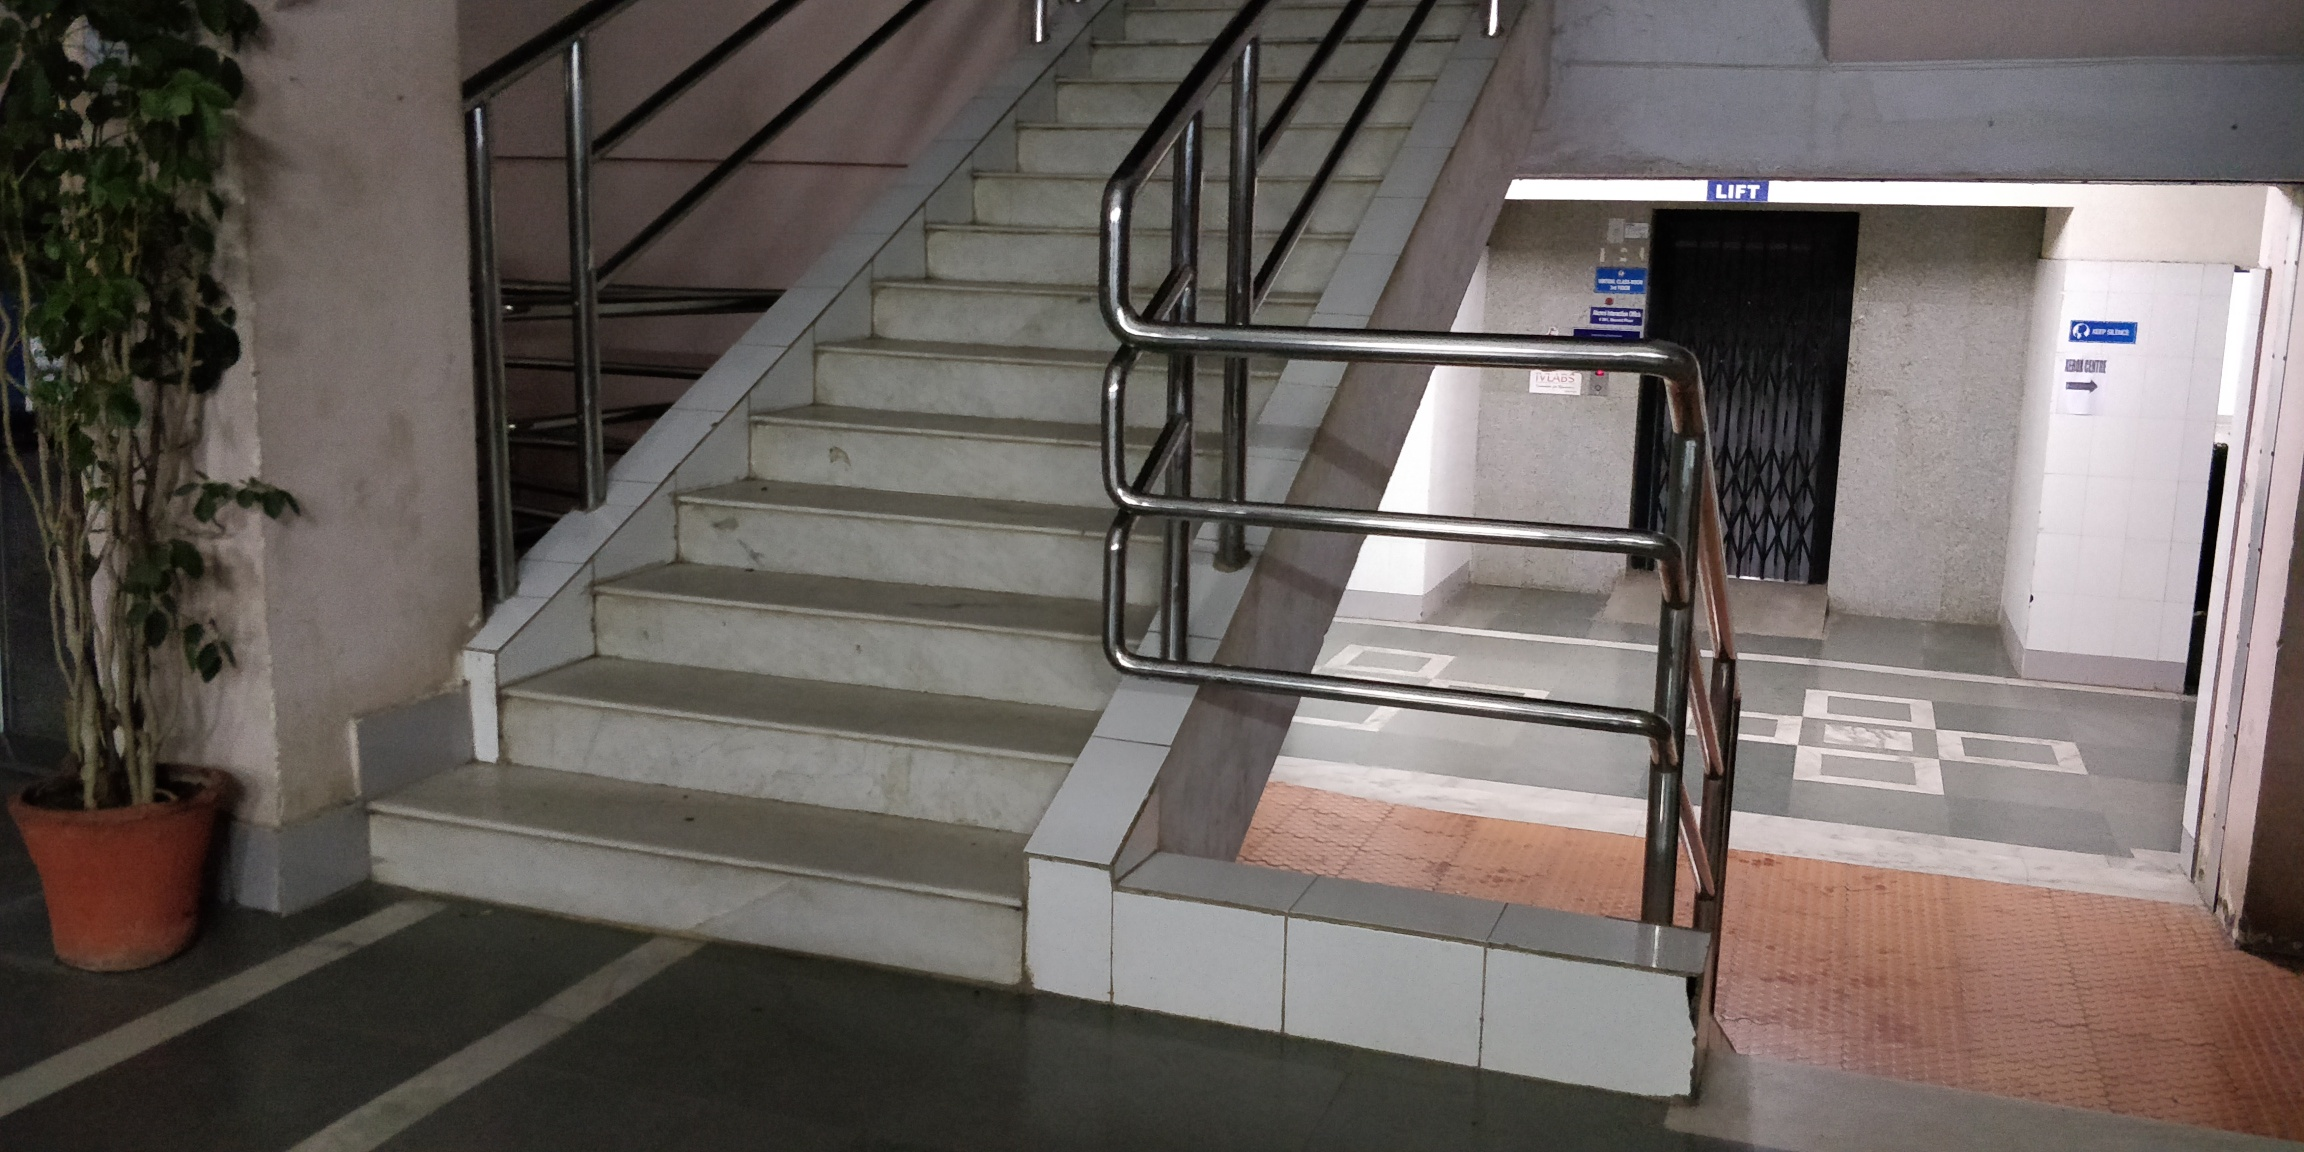stairs_up: (397, 26, 1447, 968)
